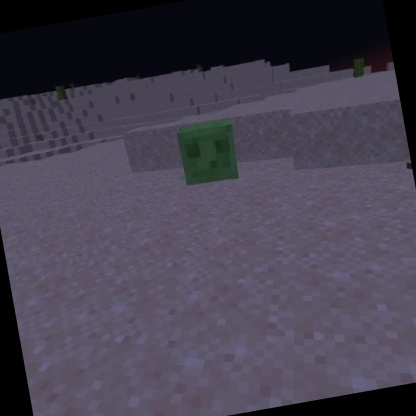slime: (174, 115, 244, 191)
